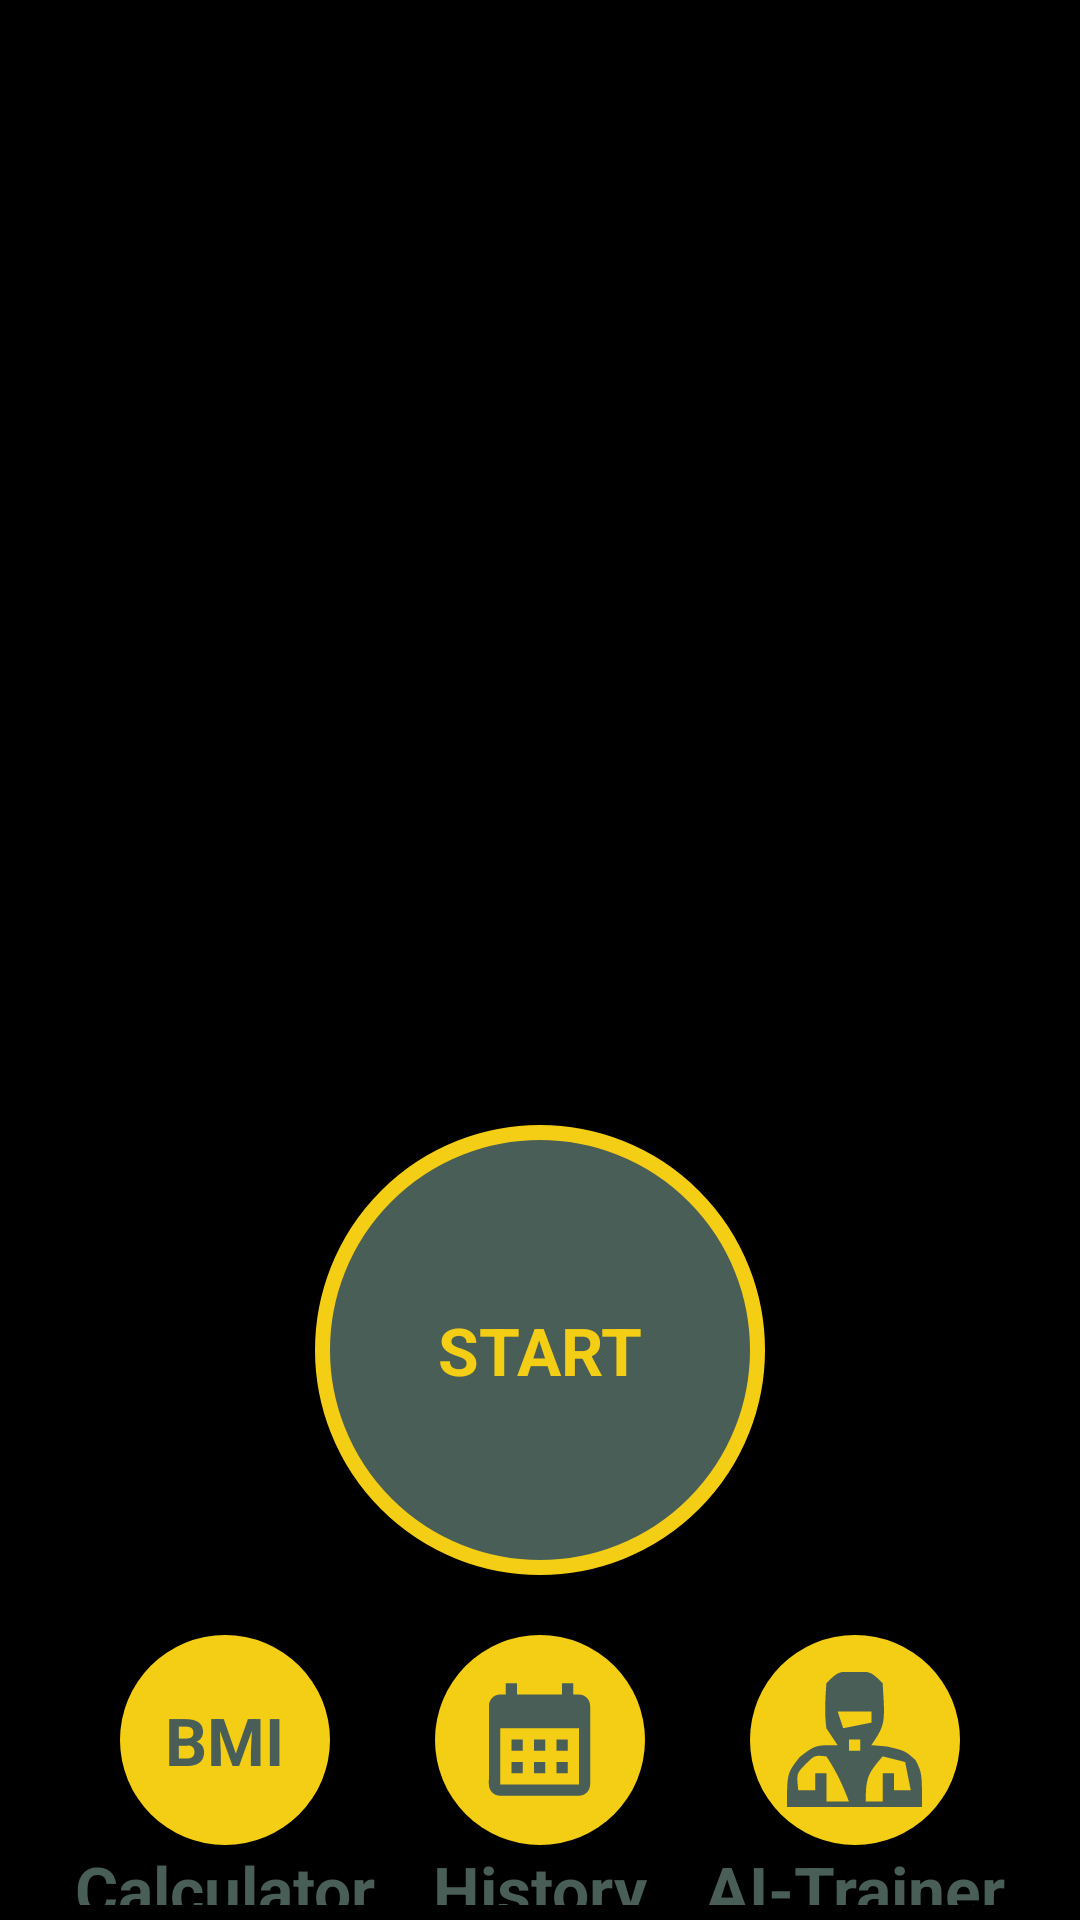

Where to tap for icons on this 1080px x 1920px app screen, as (x=x, y=y):
calendar month: (x=539, y=1739)
